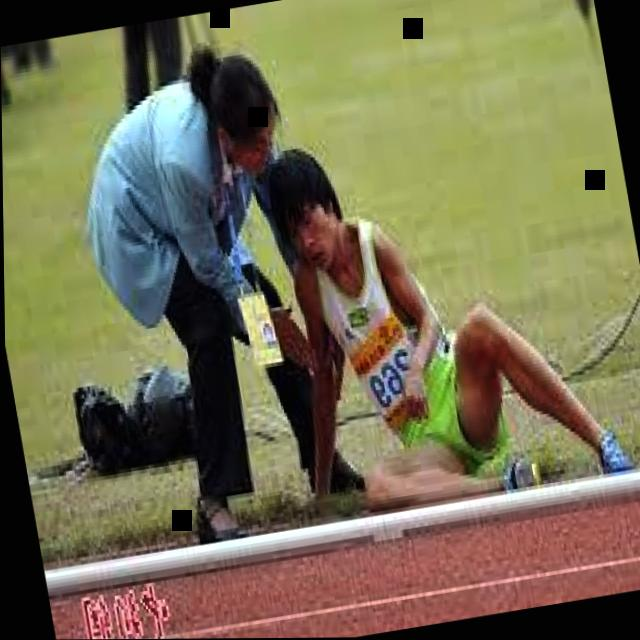Fall-Detected: (257, 87, 640, 515)
